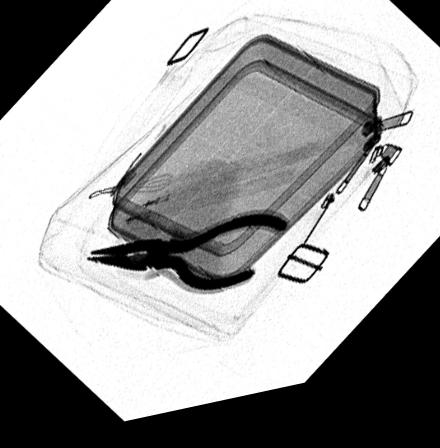Pliers: (82, 220, 288, 303)
